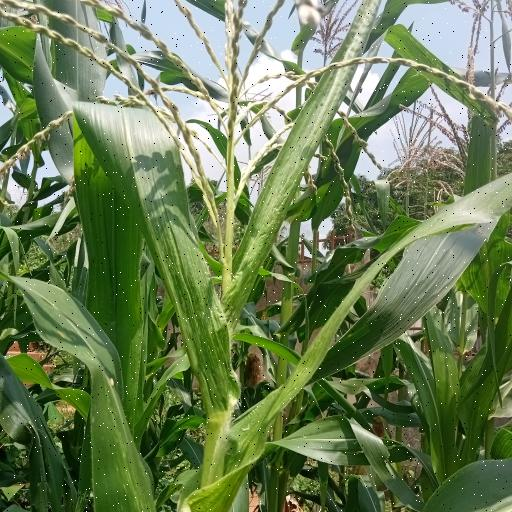Corn_Streak: (186, 177, 510, 506), (57, 100, 242, 399), (0, 260, 168, 504)
